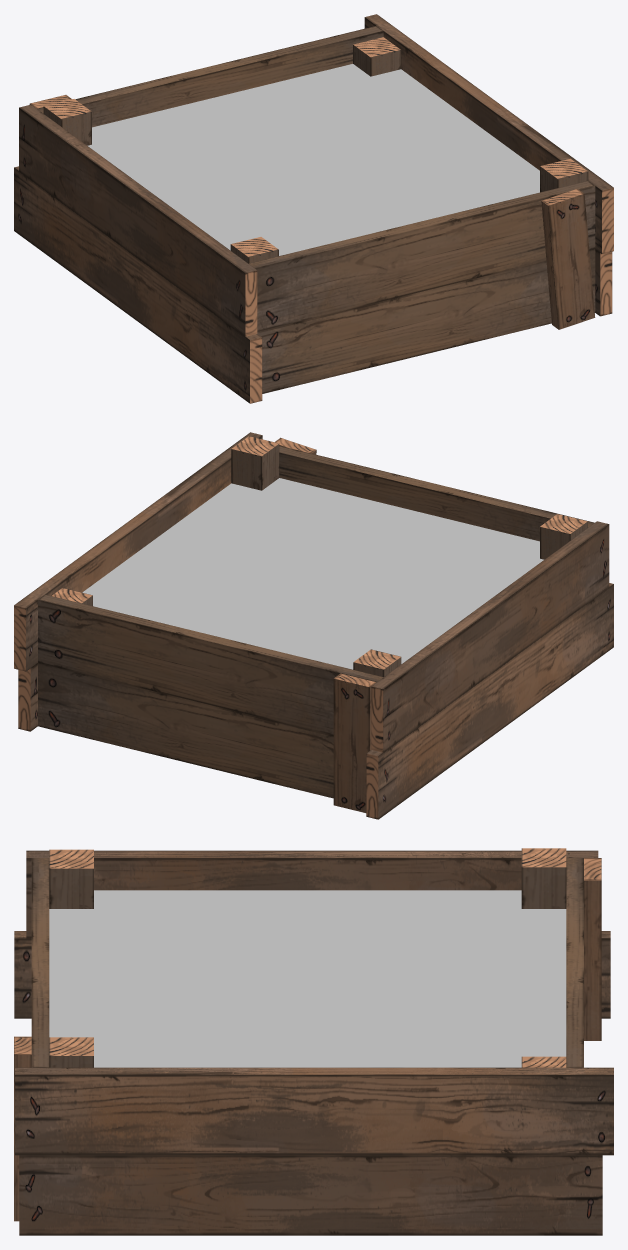
Rendered from raisedBed09.fbx.
3 views of the same model, one above another, from view 1: azimuth 30°, elevation 25°; view 2: azimuth 150°, elevation 25°; view 3: azimuth 270°, elevation 25° (orthographic). The views are drawn at different scales.
Parts seen in each view (by area): view 1: raisedBed09; view 2: raisedBed09; view 3: raisedBed09.
Boxes of the visible parts, left/top/right/bottom form: raisedBed09: left=14, top=14, right=613, bottom=403; raisedBed09: left=14, top=432, right=613, bottom=819; raisedBed09: left=14, top=848, right=613, bottom=1235.
Size of the model in its own units: 150 by 54.12 by 169.
